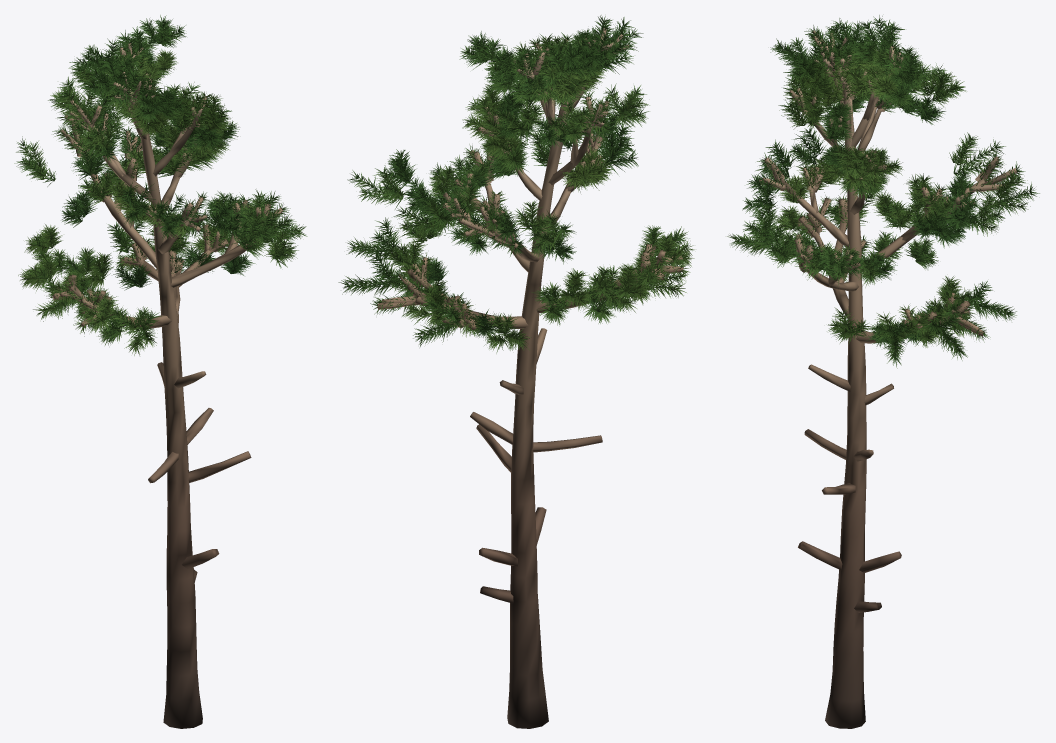
File: PineTree_02.glb
3 renders of one model, left to right at view 1: azimuth 30°, elevation 25°; view 2: azimuth 150°, elevation 25°; view 3: azimuth 270°, elevation 25°, orthographic. The views are drawn at different scales.
Visible parts, largest first — view 1: PineTree_02; view 2: PineTree_02; view 3: PineTree_02.
Boxes of the visible parts, left/top/right/bottom form: PineTree_02: left=14, top=15, right=307, bottom=728; PineTree_02: left=338, top=15, right=694, bottom=728; PineTree_02: left=727, top=15, right=1039, bottom=728.
Bounding box in the file's own units: 5.9 × 12.83 × 5.46.
